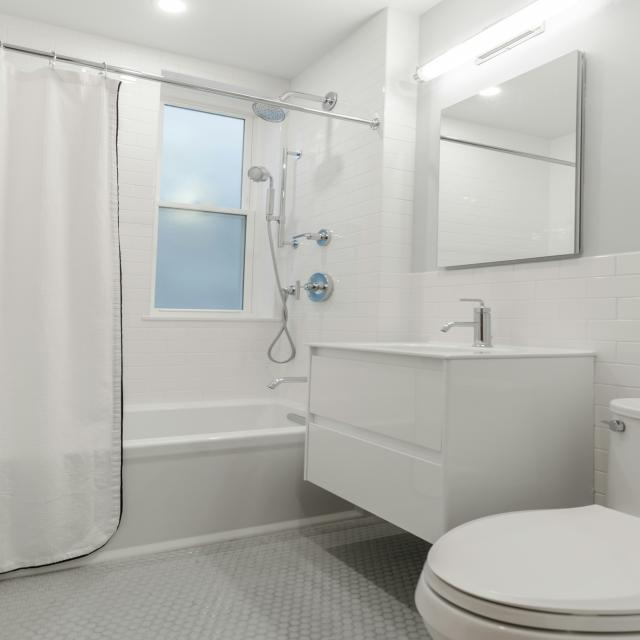floor: (0, 512, 435, 640)
